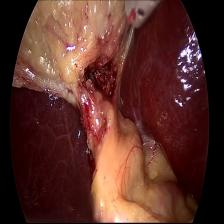Irrigator: (119, 0, 165, 28)
